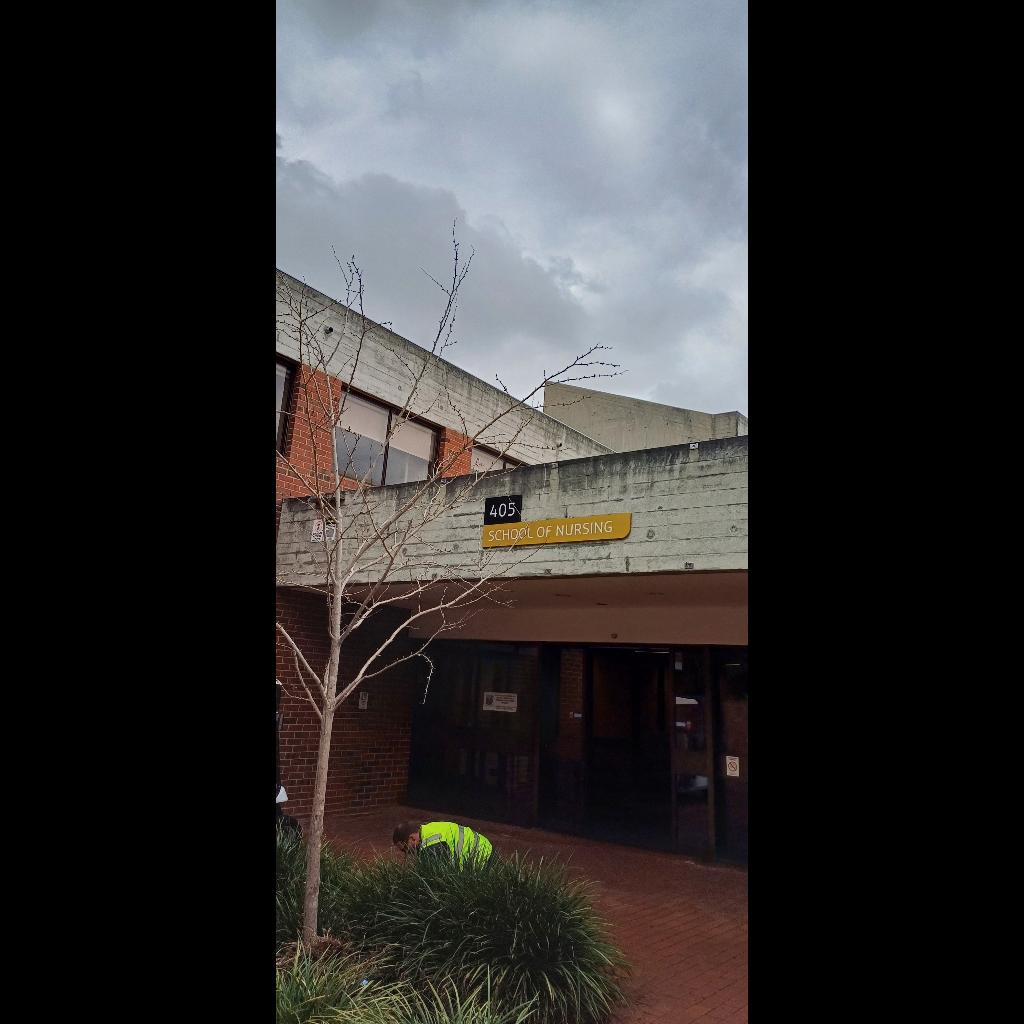BuildingCodes: (486, 498, 522, 520)
